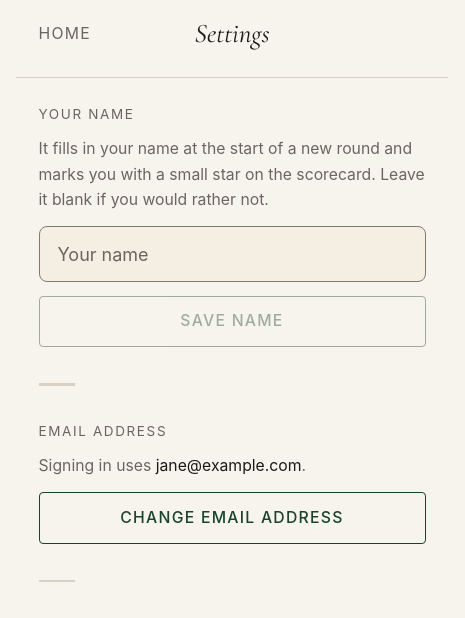
it: Settings (#4) › tells the user to check the new inbox on a successful email change
Expected: the heading "Settings" is shown, [194,17,270,50]
Click the button "Change email address" at (232, 518), box [38,492,426,544]
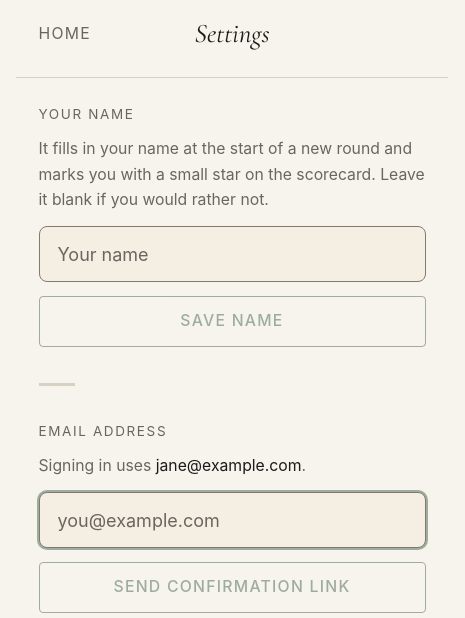
Now the field named "New email address" is shown
Type "new@example.com" into the field named "New email address" at (232, 520), box [38,492,426,548]
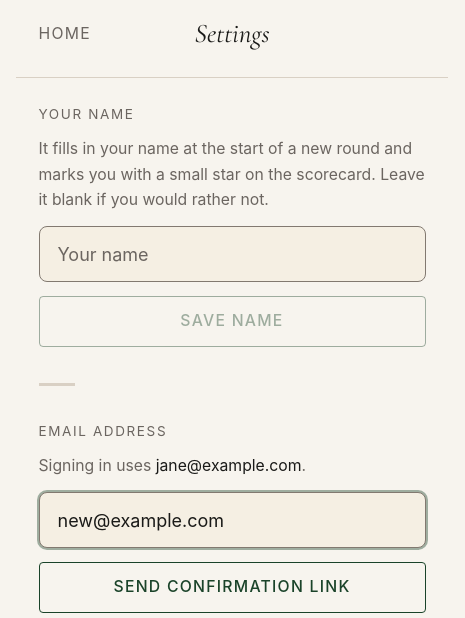
Click the button "Send confirmation link" at (232, 587), box [38,562,426,613]
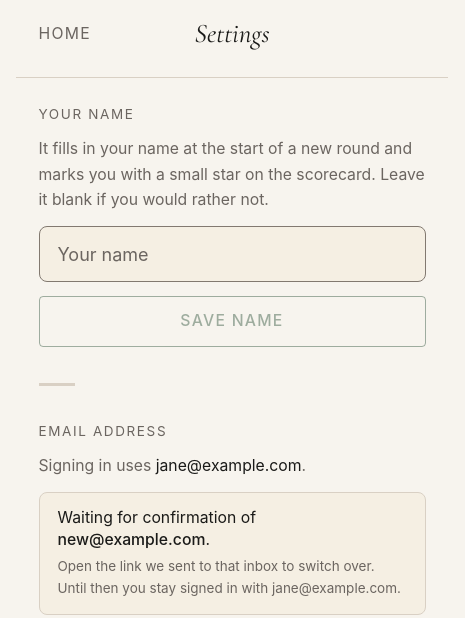
Now the text "Waiting for confirmation of new@example.com." is shown, box [58,508,256,549]
